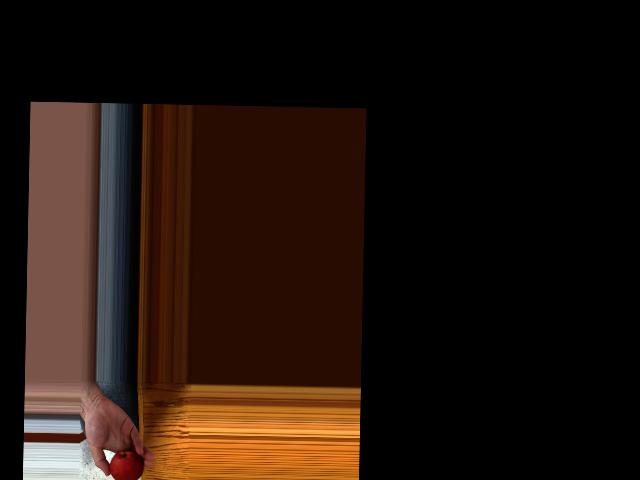apple: (111, 450, 145, 480)
